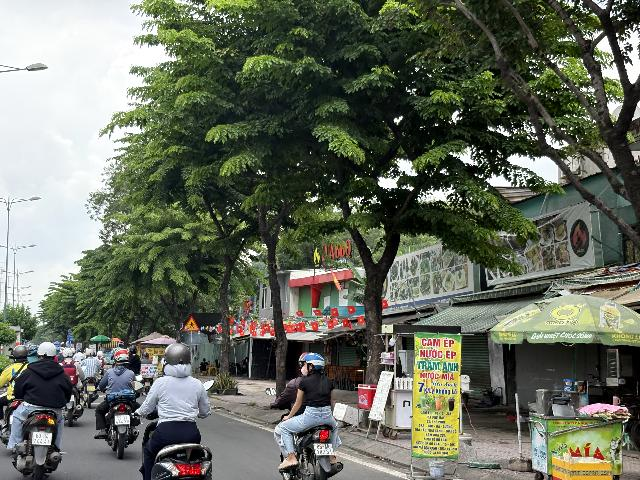duong-nguoi-di-bo-cat-ngang: (182, 316, 200, 331)
